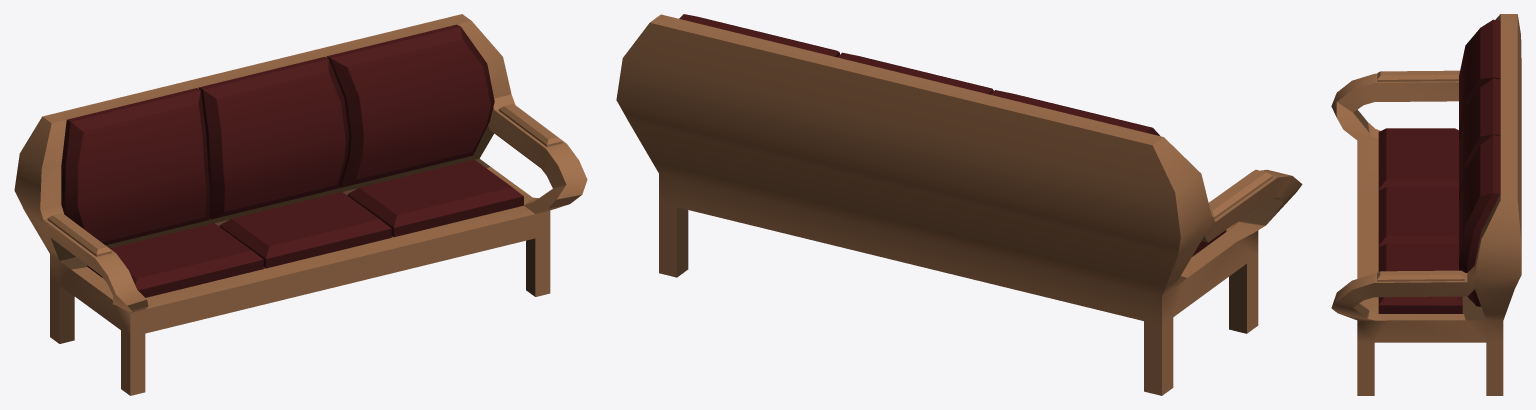
Rendered from Sofa_Unwrapped.FBX.
The picture shows the model from 3 angles, left to right: view 1: azimuth 30°, elevation 25°; view 2: azimuth 150°, elevation 25°; view 3: azimuth 270°, elevation 25°; orthographic projection. The views are drawn at different scales.
Visible parts, largest first — view 1: Sofa_1; view 2: Sofa_1; view 3: Sofa_1.
Boxes of the visible parts, x1,y1,x2,y2 form: Sofa_1: (14, 14, 587, 395); Sofa_1: (616, 14, 1302, 395); Sofa_1: (1331, 14, 1521, 395).
Size of the model in its own units: 2.03 by 0.8907 by 0.7818.
